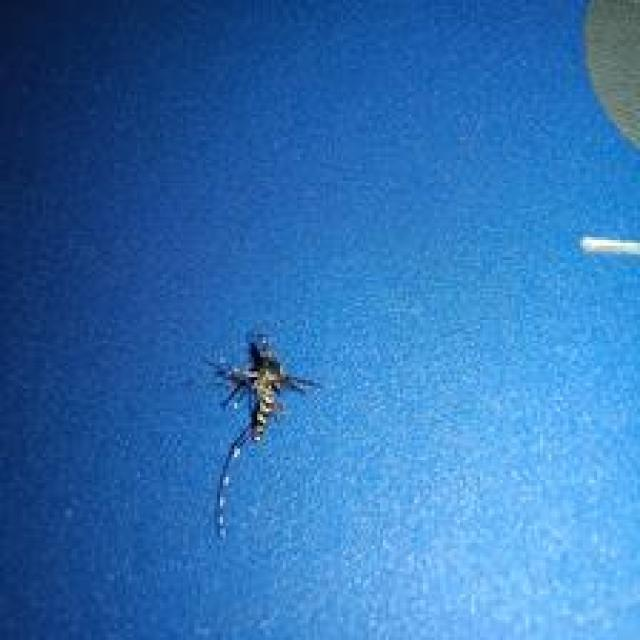Aedes albopictus: (202, 329, 322, 540)
